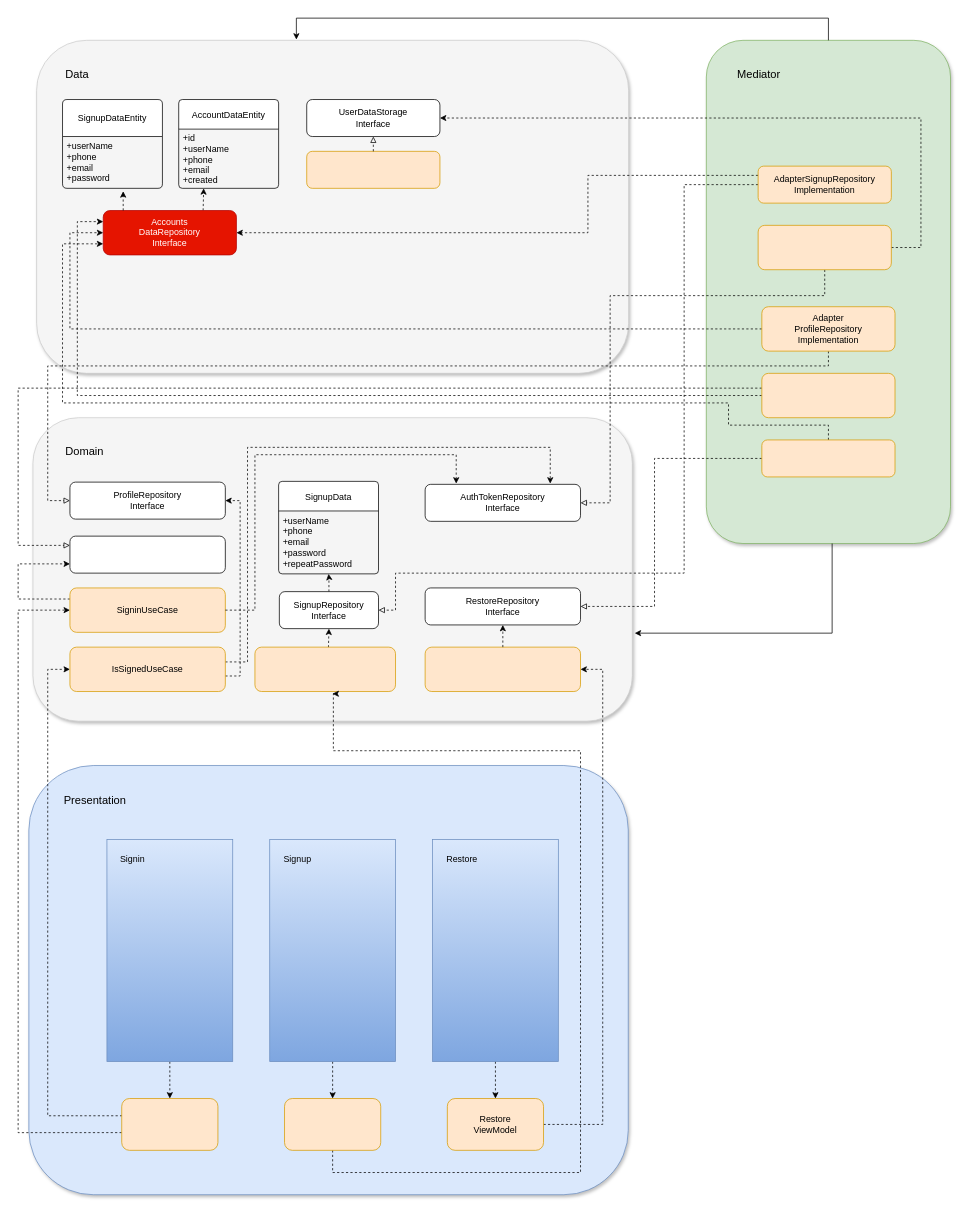
Image size: 968x1213. Some labels were removed from this diagram. The centre of each missing label's shape, as x and y in pixels:
Adapter AuthServiceRepository Implementation: the point at 828,395
Adapter AuthTokenRepository Implementation: the point at 824,247
AdapterRestoreRepository Implementation: the point at 828,458
AuthServiceRepository Interface: the point at 147,554
RestoreUseCase: the point at 502,669
SharedPreferences UserDataStorage Implementation: the point at 373,169
Signin ViewModel: the point at 169,1124
Signup ViewModel: the point at 332,1124
SignupUseCase: the point at 325,669
